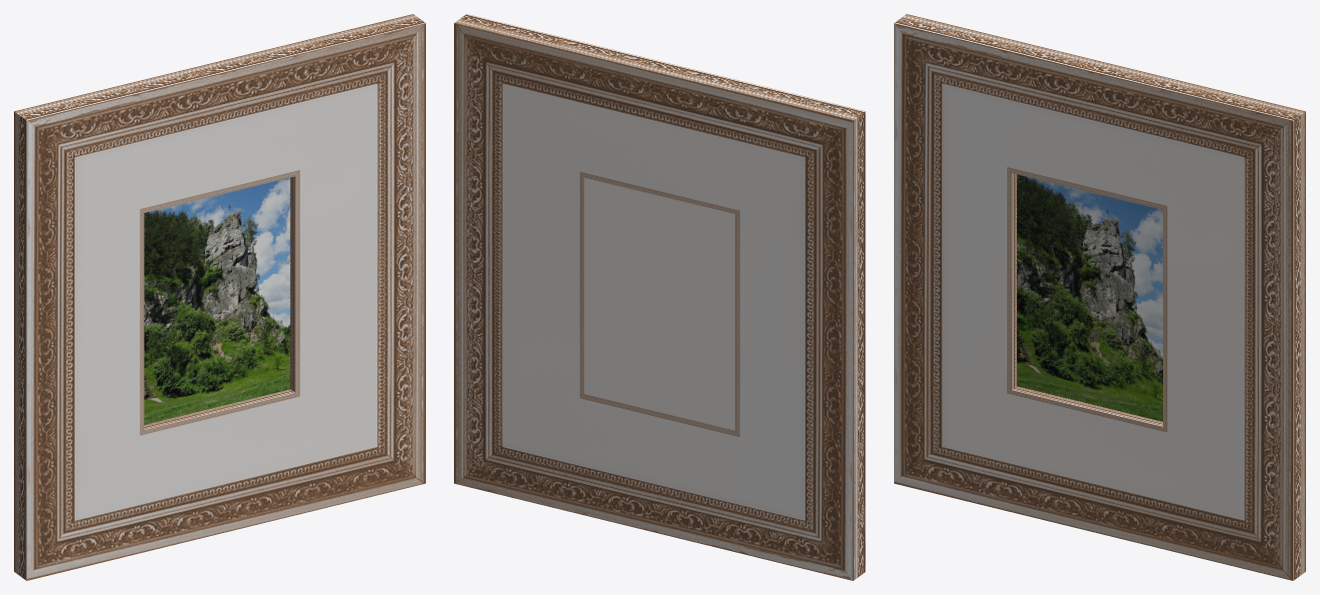
Rendered from Frame_012.FBX.
3 renders of one model, left to right at view 1: azimuth 30°, elevation 25°; view 2: azimuth 150°, elevation 25°; view 3: azimuth 330°, elevation 25°, orthographic.
Visible parts, largest first — view 1: Frame_012; view 2: Frame_012; view 3: Frame_012.
Part boxes in pixels (box(x1,y1,x2,y2)): Frame_012: box(14, 14, 425, 580); Frame_012: box(454, 14, 865, 580); Frame_012: box(894, 14, 1305, 580).
Size of the model in its own units: 654 by 36 by 720.
